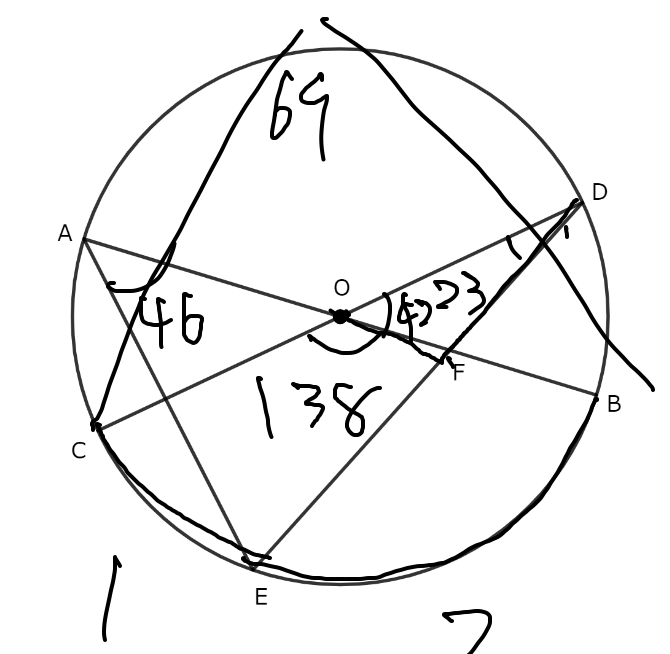Angle_Scurve: (102, 239, 180, 298), (305, 325, 383, 356), (374, 286, 396, 327), (501, 229, 525, 259)
